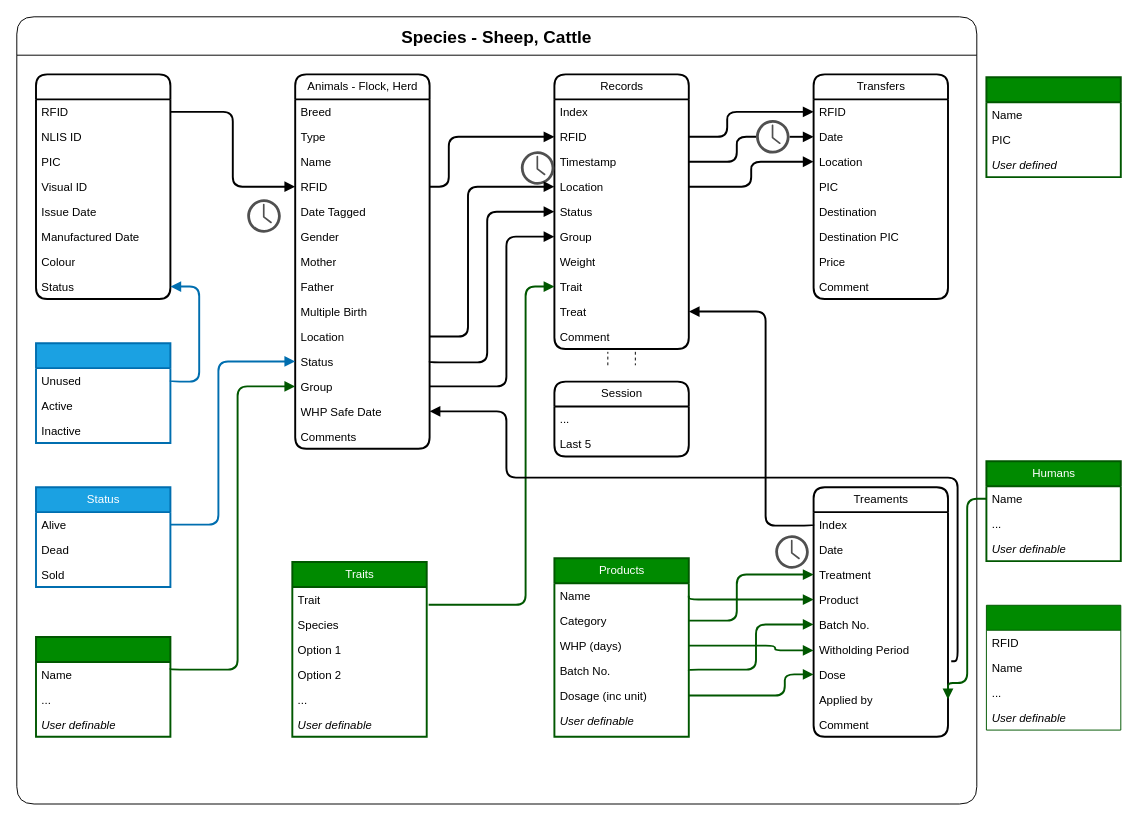
This 1139x821 diagram has some shape labels left out. The shapes that lost their labels are listed below. From the top down, each one's box as (x1, y1, x2, y2) in pixels, then its label:
(985, 76, 1121, 178): Locations
(35, 73, 171, 300): Tags
(35, 342, 171, 444): Tag Status
(35, 636, 171, 737): Groups
(985, 604, 1121, 730): Dogs
